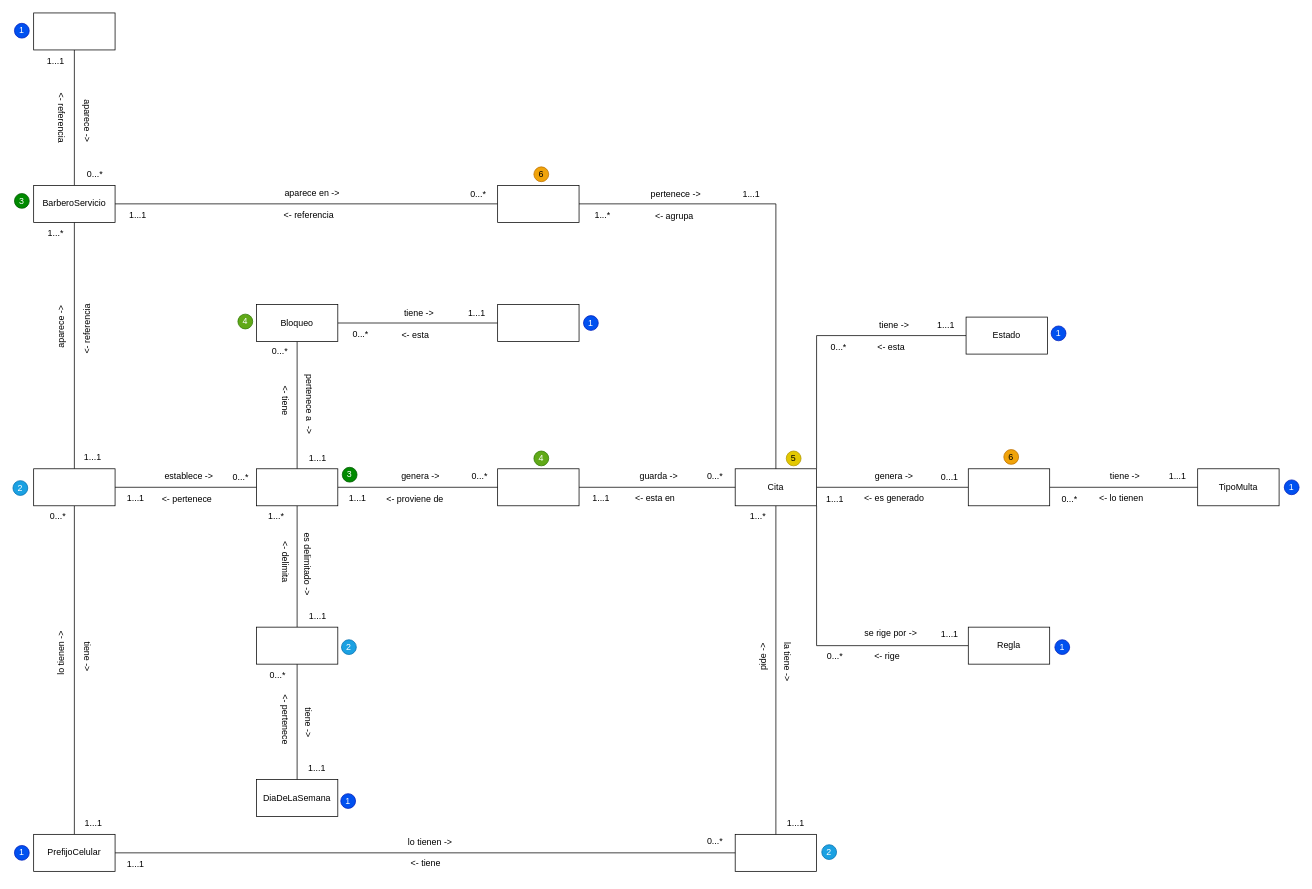
Image size: 1312x889. Some labels were removed from this diagram. Here are the shapes that lost their labels. From the top down, the centre of each, then its label:
At (74,31): "Servicio".
At (538,203): "CitaServicio".
At (538,323): "TipoBloqueo".
At (74,487): "Barbero".
At (297,487): "HorarioBarbero".
At (538,487): "Agenda".
At (1009,487): "Multa".
At (297,645): "HorarioBarberia".
At (775,852): "Cliente".
